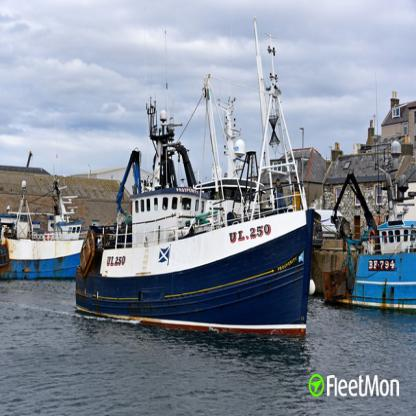Fishing Boat: (75, 17, 315, 342), (332, 139, 416, 312), (0, 171, 85, 281)
